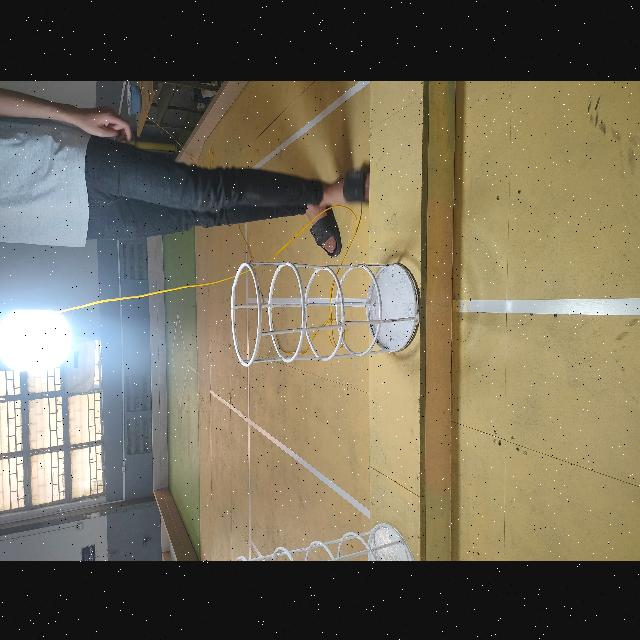S: (230, 260, 420, 366), (233, 522, 415, 560)
